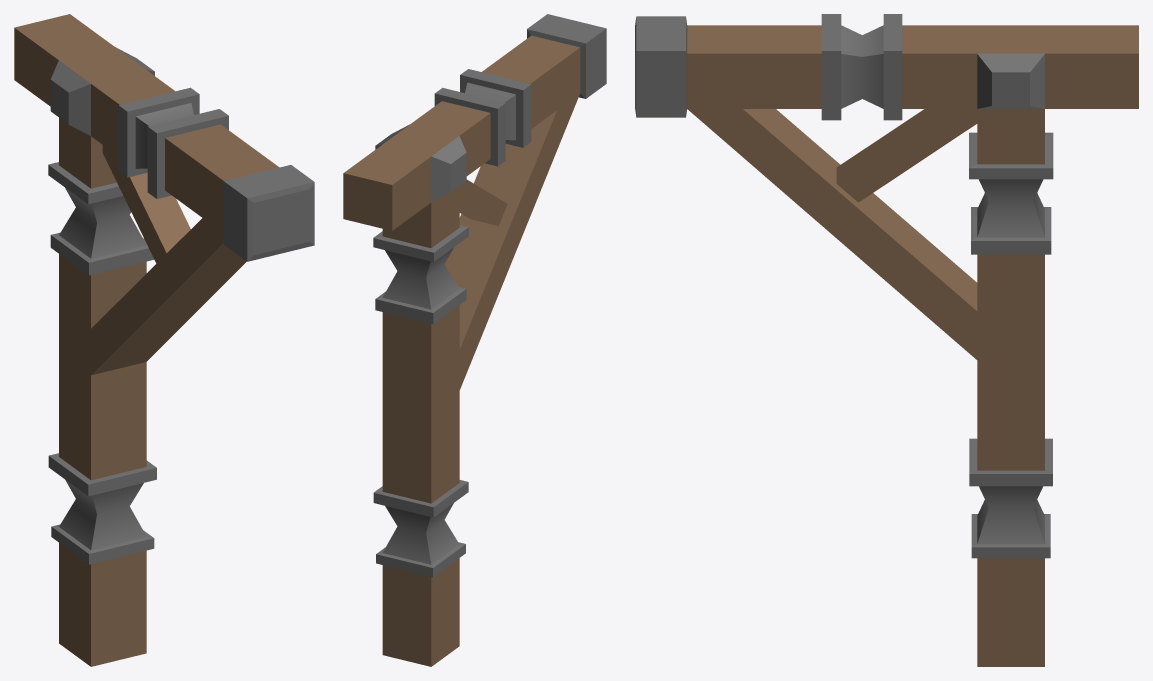
File: Prop_Pillar_001_Wooden_001_Short.fbx
3 renders of one model, left to right at view 1: azimuth 30°, elevation 25°; view 2: azimuth 150°, elevation 25°; view 3: azimuth 270°, elevation 25°, orthographic. The views are drawn at different scales.
Parts seen in each view (by area): view 1: Prop_Pillar_001_Wooden_001_Short; view 2: Prop_Pillar_001_Wooden_001_Short; view 3: Prop_Pillar_001_Wooden_001_Short.
Part boxes in pixels (left/top/right/bottom): Prop_Pillar_001_Wooden_001_Short: left=14, top=14, right=314, bottom=666; Prop_Pillar_001_Wooden_001_Short: left=343, top=14, right=606, bottom=666; Prop_Pillar_001_Wooden_001_Short: left=635, top=14, right=1138, bottom=666.
Size of the model in its own units: 46.45 by 303 by 223.
